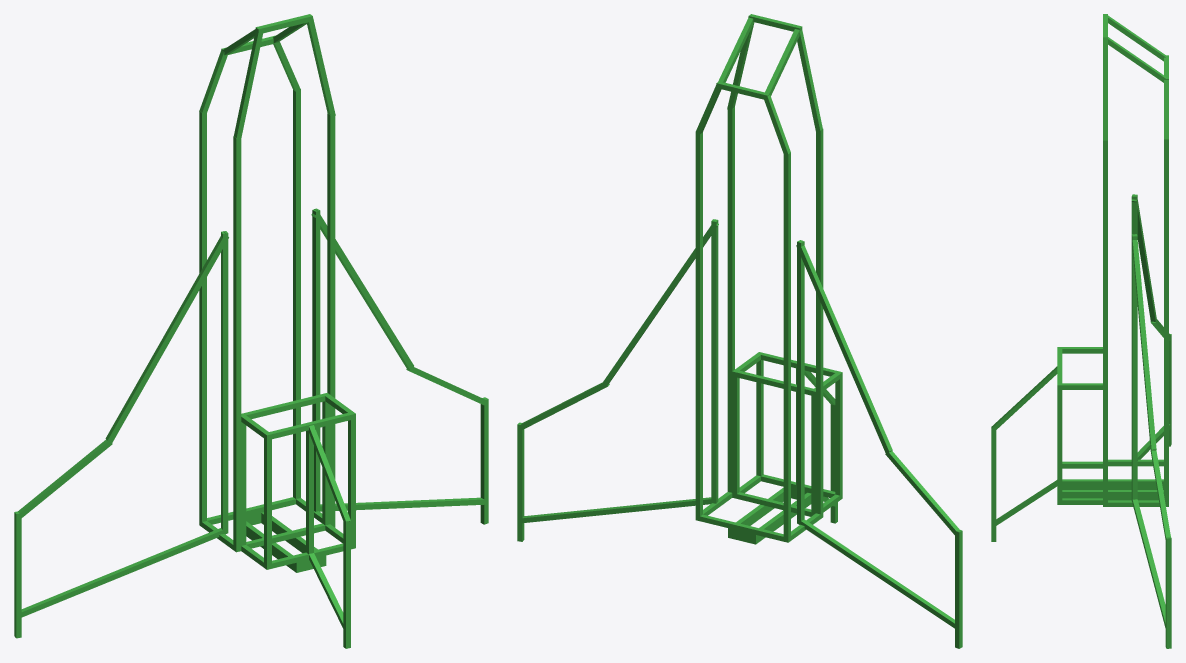
The model's file is Starfighter.obj.
The picture shows the model from 3 angles, left to right: view 1: azimuth 30°, elevation 25°; view 2: azimuth 150°, elevation 25°; view 3: azimuth 270°, elevation 25°; orthographic projection. The views are drawn at different scales.
Parts seen in each view (by area): view 1: obj_0; view 2: obj_0; view 3: obj_0.
Boxes of the visible parts, x1,y1,x2,y2 form: obj_0: [14, 14, 488, 648]; obj_0: [517, 14, 962, 648]; obj_0: [991, 14, 1171, 648].
Bounding box in the file's own units: 47.76 × 56.5 × 17.75.
